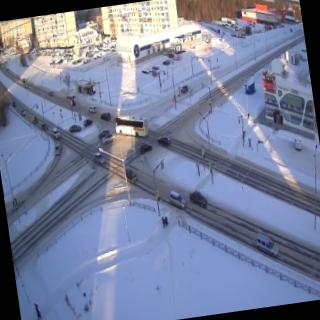small-vehicle: (114, 109, 150, 141), (252, 229, 280, 260), (165, 186, 185, 213), (188, 188, 208, 210), (121, 166, 136, 184), (138, 142, 154, 158), (91, 147, 105, 165), (158, 132, 173, 148), (99, 110, 112, 124), (67, 121, 81, 133), (52, 125, 62, 141), (30, 112, 40, 128), (180, 82, 191, 94), (102, 134, 115, 144), (87, 104, 97, 116), (40, 119, 50, 131), (51, 144, 60, 156), (20, 108, 28, 116), (10, 98, 16, 108), (47, 88, 54, 95)
